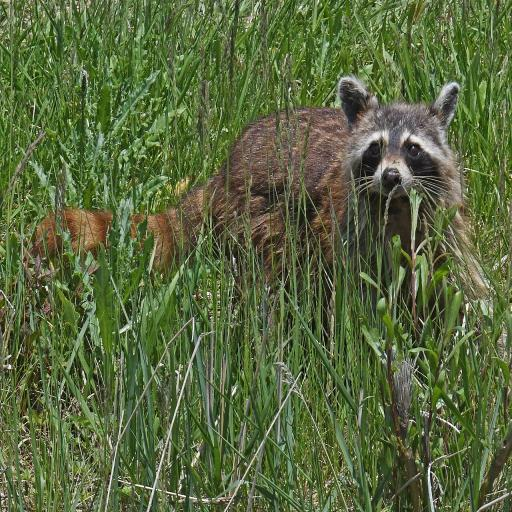raccoon: (132, 77, 485, 296)
